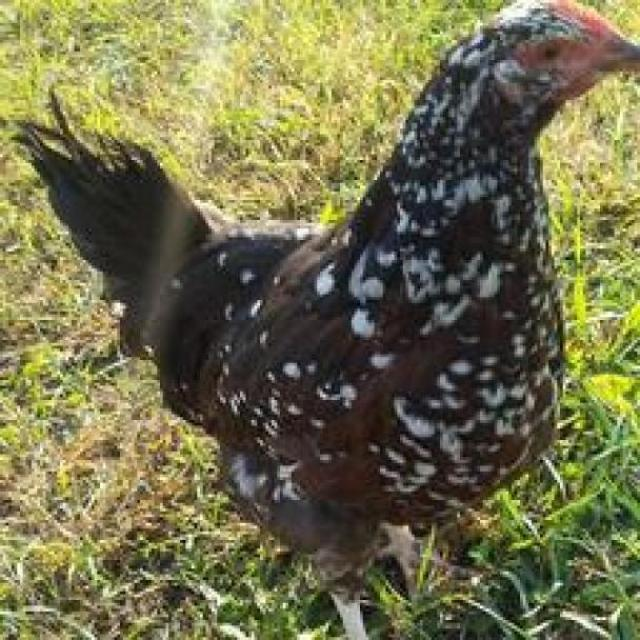Chicken: (0, 2, 638, 621)
